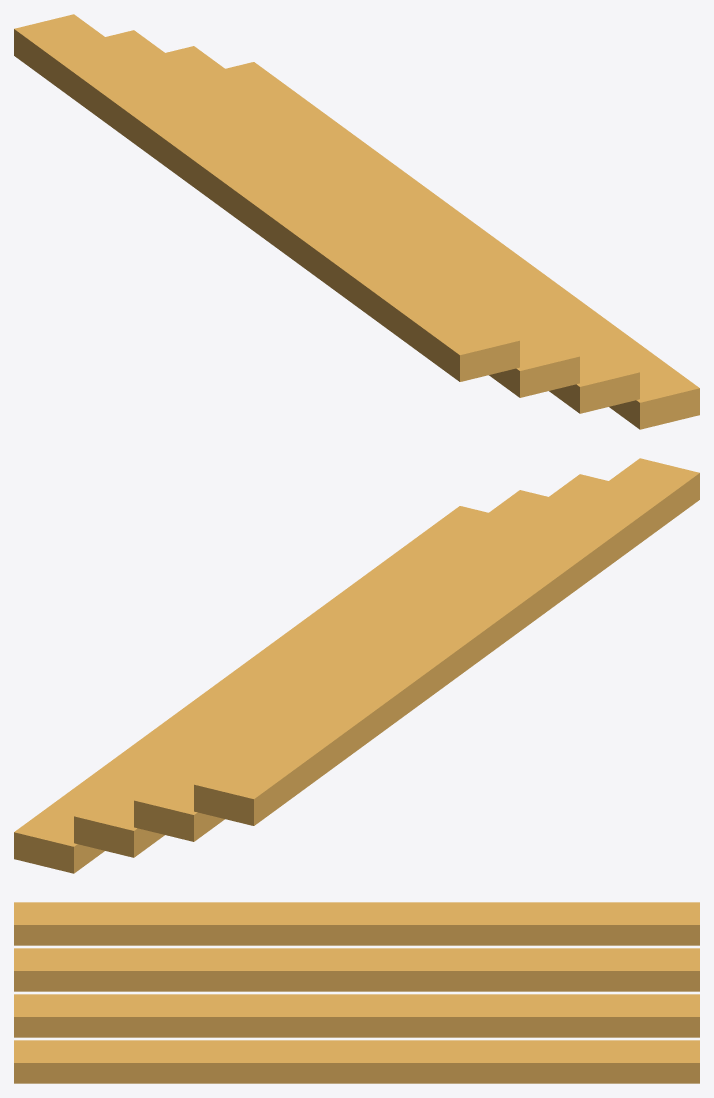
File: OU_AR_ArtAnim_02_D.fbx
3 renders of one model, top to bottom at view 1: azimuth 30°, elevation 25°; view 2: azimuth 150°, elevation 25°; view 3: azimuth 270°, elevation 25°, orthographic. The views are drawn at different scales.
Parts seen in each view (by area): view 1: OU_AR_ArtAnim_02_D; view 2: OU_AR_ArtAnim_02_D; view 3: OU_AR_ArtAnim_02_D.
Boxes of the visible parts, box(x1,y1,x2,y2) form: OU_AR_ArtAnim_02_D: box(14, 14, 699, 429); OU_AR_ArtAnim_02_D: box(14, 458, 699, 873); OU_AR_ArtAnim_02_D: box(14, 902, 699, 1083).
Size of the model in its own units: 140 by 66 by 450.
